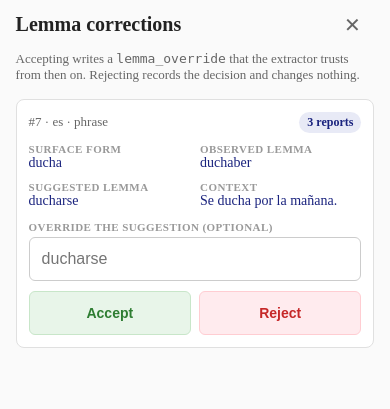
AdminLemmaQueuePage › surfaces a failed decision inline and keeps the row actionable
This screenshot has width=390, height=409.
Click the button with test id "lemma-accept-7": (110, 313) [29,291,191,335]
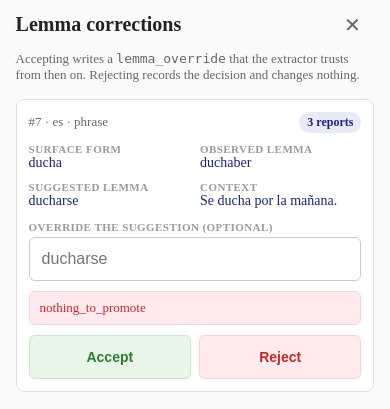
Expected: the button with test id "lemma-accept-7" is shown, [29,335,191,379]
Expected: the text "nothing_to_promote" is shown, [29,291,361,325]
Expected: the text with test id "lemma-row-error-7" reads "nothing_to_promote", [40,300,146,315]
